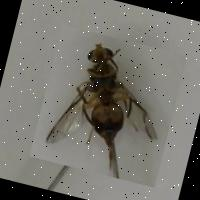Oriental-fruit-fly: (29, 25, 187, 188)
